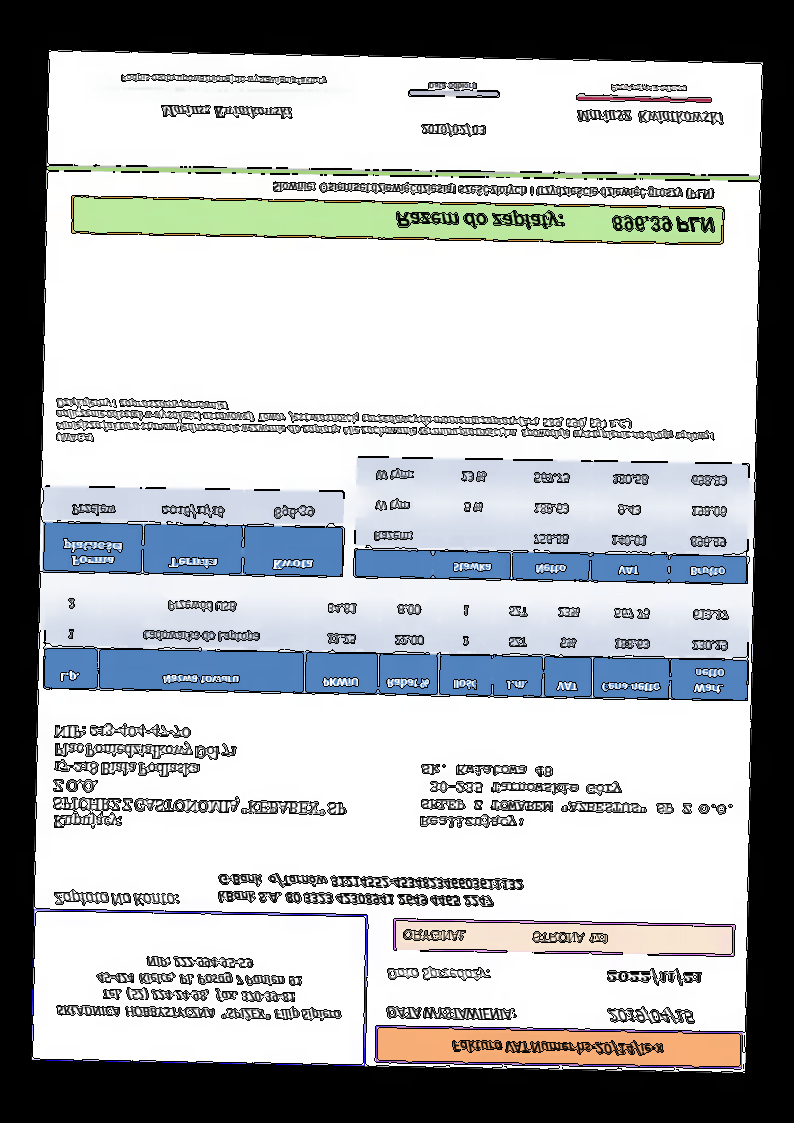Table: (41, 582, 752, 703), (353, 456, 749, 587), (41, 485, 344, 579)
TextBox: (52, 395, 719, 458), (48, 722, 353, 838), (416, 759, 734, 836), (55, 953, 343, 1025), (270, 176, 719, 205), (215, 872, 526, 912), (393, 206, 718, 239), (450, 1036, 664, 1059), (117, 68, 329, 91), (400, 926, 611, 948), (575, 105, 728, 128), (158, 101, 294, 124), (49, 889, 182, 910), (384, 1005, 518, 1025), (384, 963, 492, 986), (603, 964, 703, 988), (604, 1006, 696, 1027), (418, 119, 487, 140), (609, 79, 689, 97), (425, 80, 479, 94)
